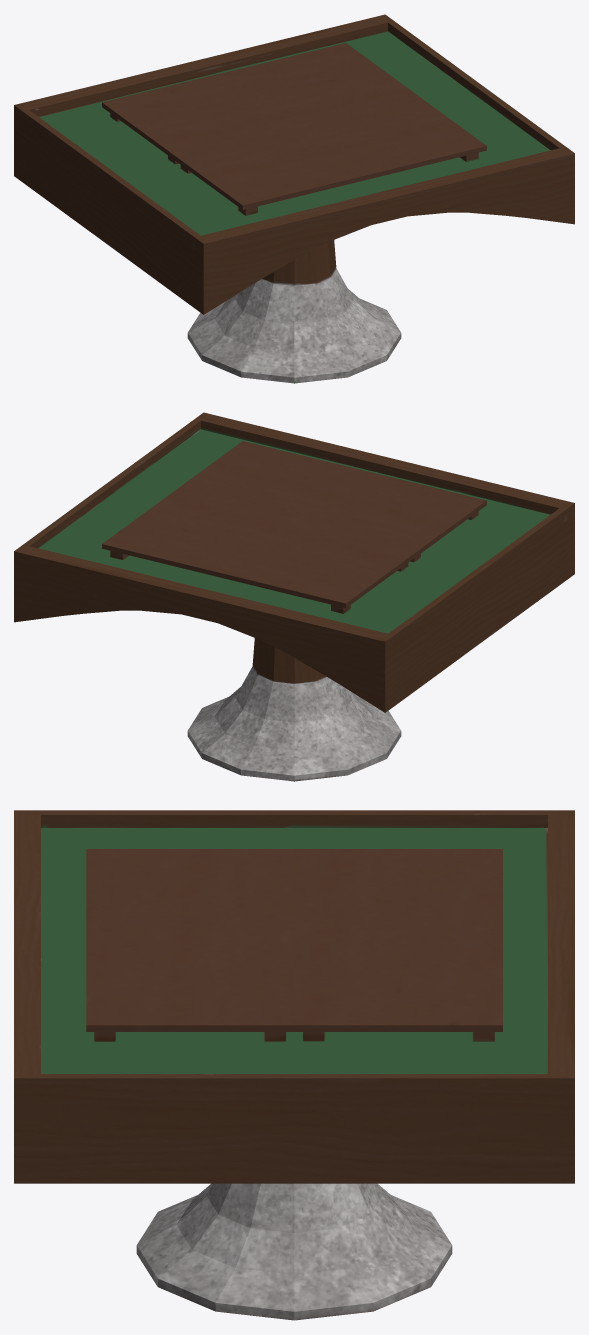
File: TABLE_ONE_textured (1).fbx
3 views of the same model, one above another, from view 1: azimuth 30°, elevation 25°; view 2: azimuth 150°, elevation 25°; view 3: azimuth 270°, elevation 25° (orthographic). The views are drawn at different scales.
Parts seen in each view (by area): view 1: Cube, Cylinder, Cube.004, Cube.003; view 2: Cube, Cylinder, Cube.003, Cube.004; view 3: Cube, Cube.003, Cube.004, Cylinder, Cube.002.
Boxes of the visible parts, x1,y1,x2,y2 form: Cube: (14,14,574,314); Cylinder: (187,240,401,383); Cube.004: (172,94,486,209); Cube.003: (102,43,415,157); Cube: (14,412,574,712); Cylinder: (187,638,401,781); Cube.003: (102,492,416,607); Cube.004: (172,441,486,556); Cube: (14,810,574,1183); Cube.003: (294,849,502,1031); Cube.004: (86,849,294,1031); Cylinder: (136,1183,452,1320); Cube.002: (94,1032,494,1041).
Bounding box in the file's own units: 761 × 419 × 673.
Materials: 1 (1 with a texture image).
